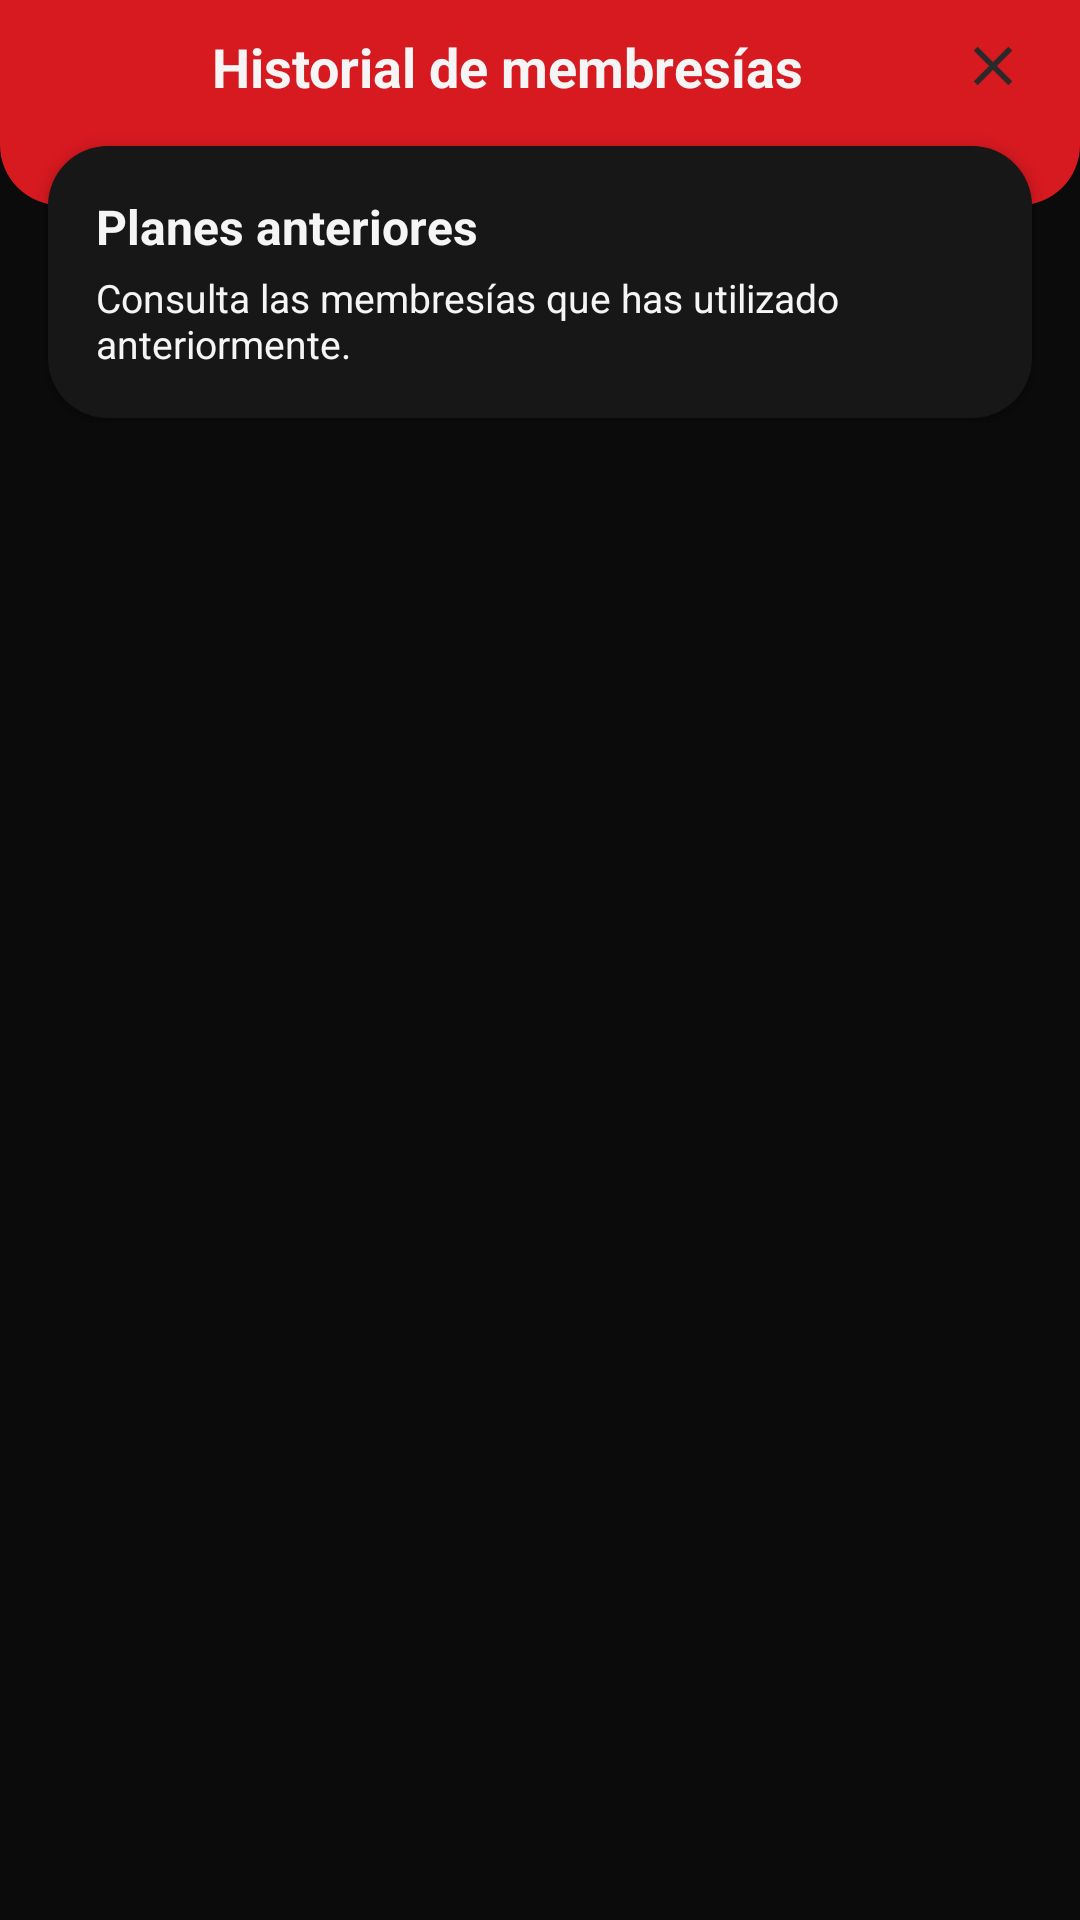

Icons on this 1080 x 1920 Android screen, each with the point to tap as (x,y):
cerrar: (993,66)
